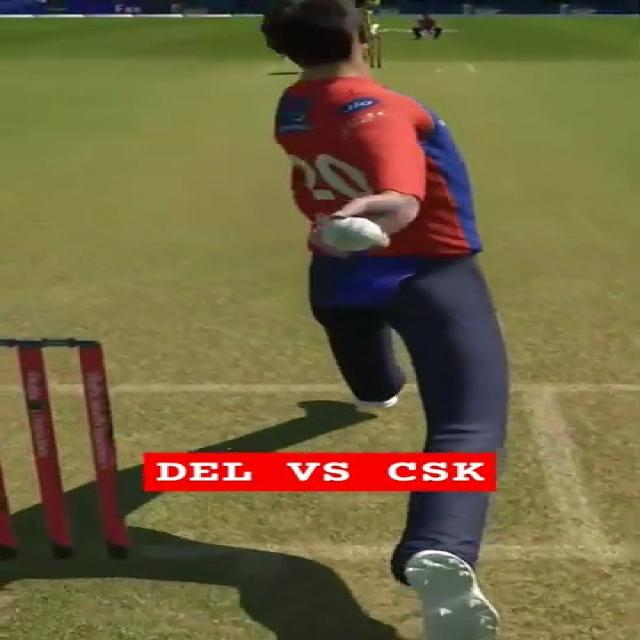ball: (315, 216, 386, 251)
